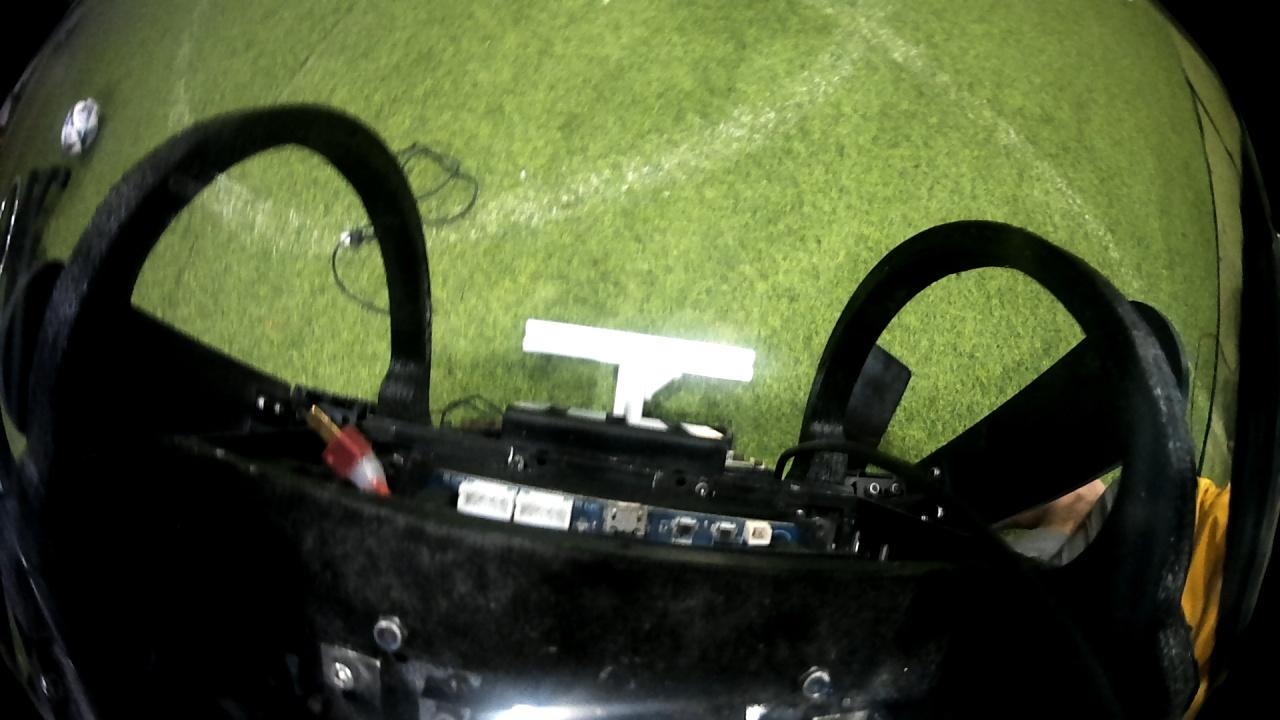ball: (57, 95, 102, 162)
